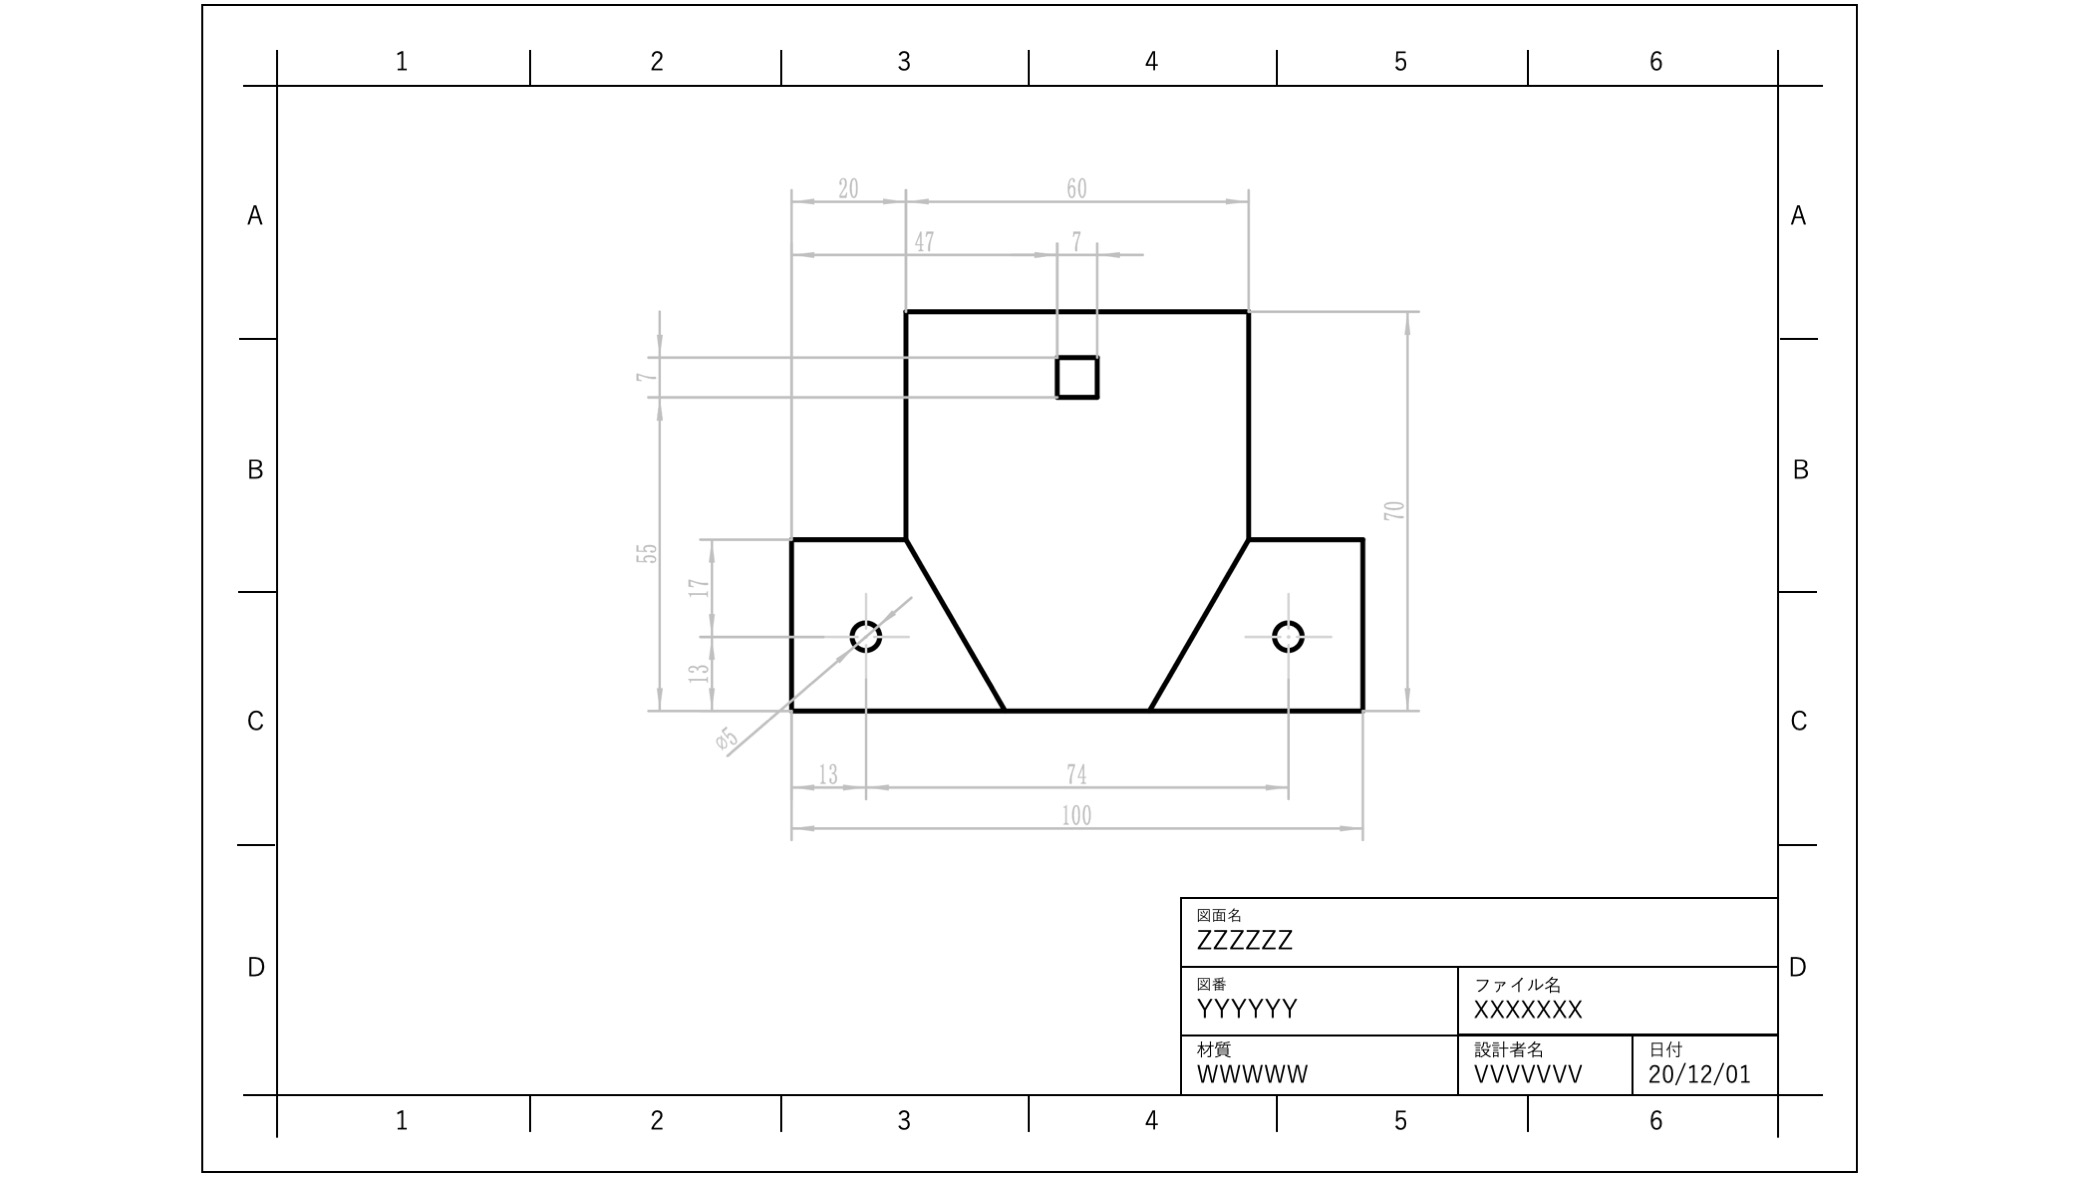circle: (837, 609, 901, 659), (1259, 606, 1311, 660)
rectangle: (1046, 348, 1108, 415)
